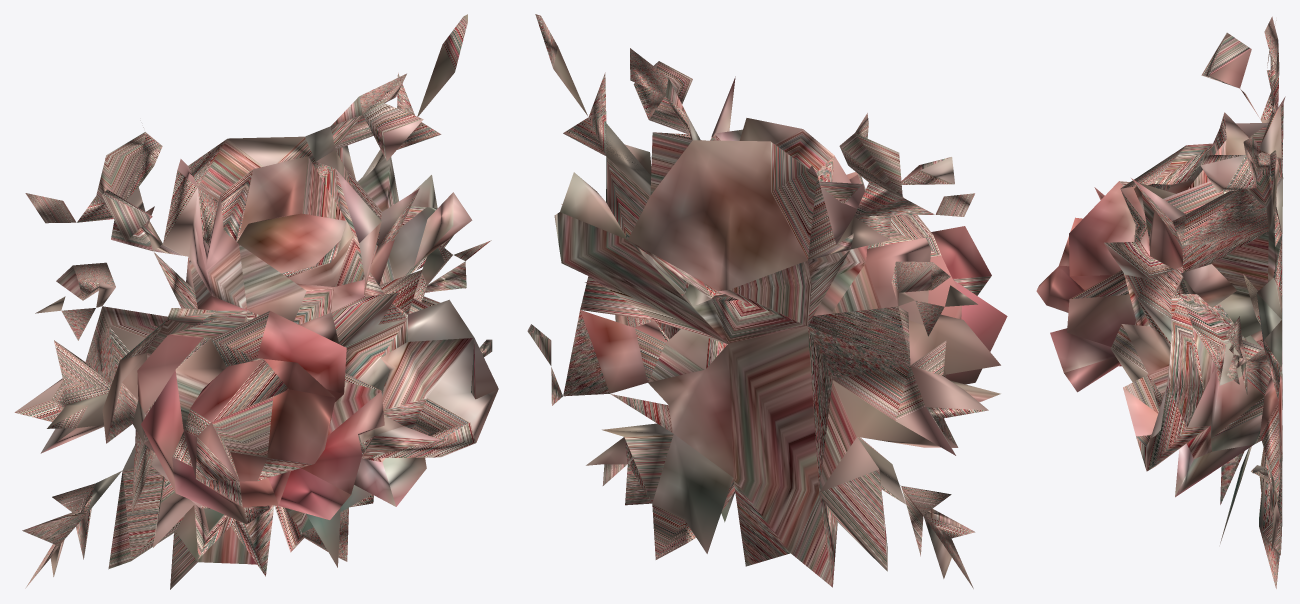
3 renders of one model, left to right at view 1: azimuth 30°, elevation 25°; view 2: azimuth 150°, elevation 25°; view 3: azimuth 270°, elevation 25°, orthographic. The views are drawn at different scales.
Visible parts, largest first — view 1: Rose-Bouquet-10-16; view 2: Rose-Bouquet-10-16; view 3: Rose-Bouquet-10-16.
Part boxes in pixels (x1,y1,x2,y2): Rose-Bouquet-10-16: [14, 14, 498, 589]; Rose-Bouquet-10-16: [527, 14, 1007, 588]; Rose-Bouquet-10-16: [1036, 16, 1285, 588].
Size of the model in its own units: 0.2955 by 0.3125 by 0.1427.
Materials: 1 (1 with a texture image).
